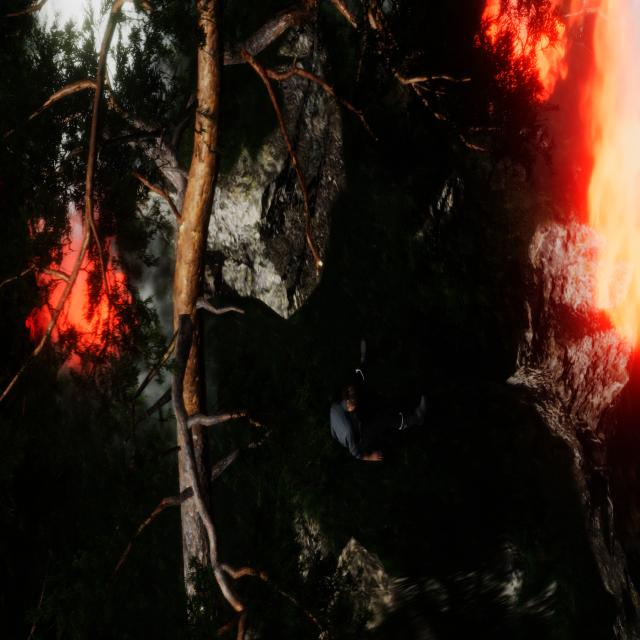Human: (318, 332, 438, 472)
